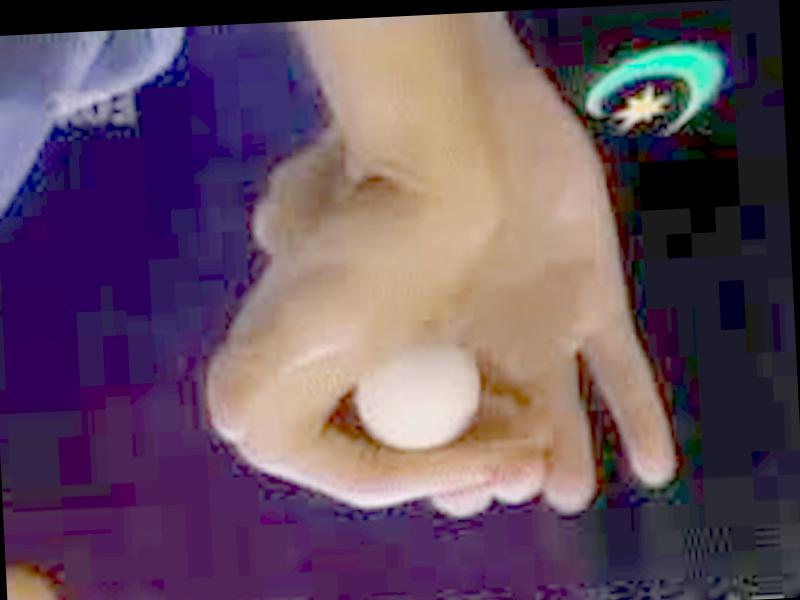Eggs: (350, 350, 485, 455)
